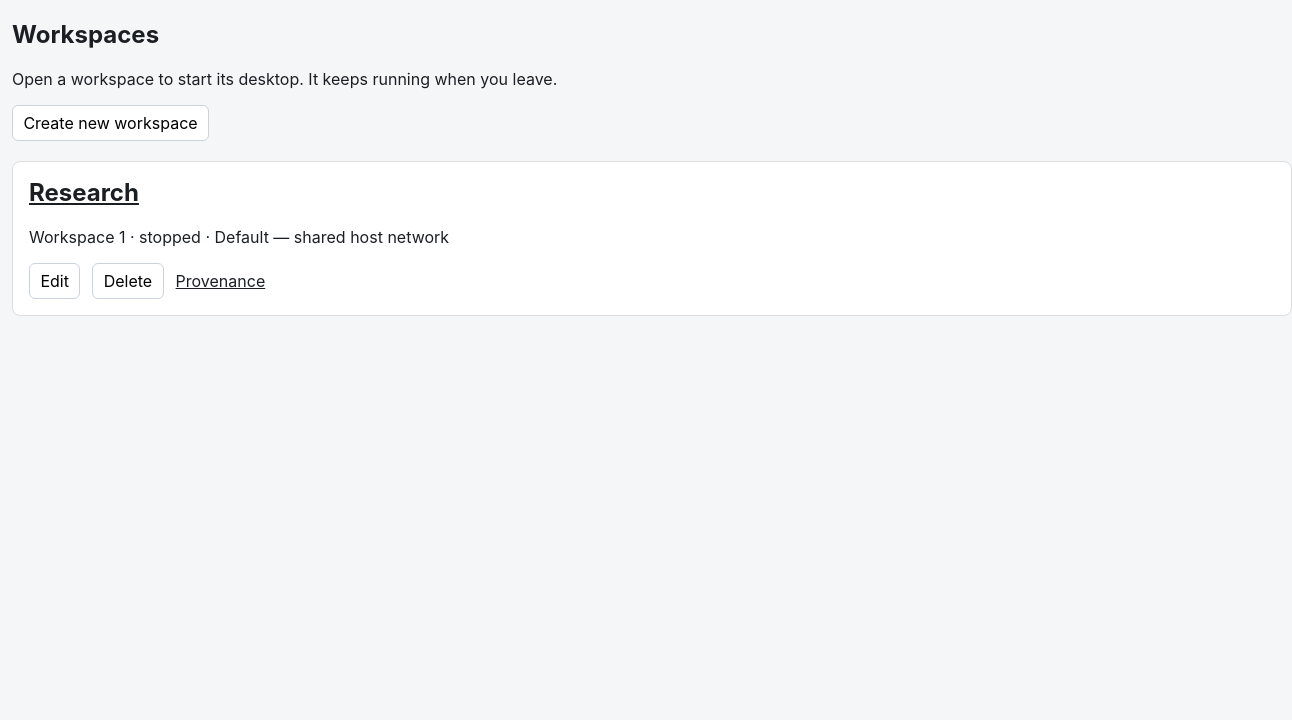
Test: requires explicit deletion confirmation and retains the row on failure
This screenshot has width=1292, height=720.
Click the button with aria-label "Delete Research". click: (128, 281)
box: [92,263,164,300]
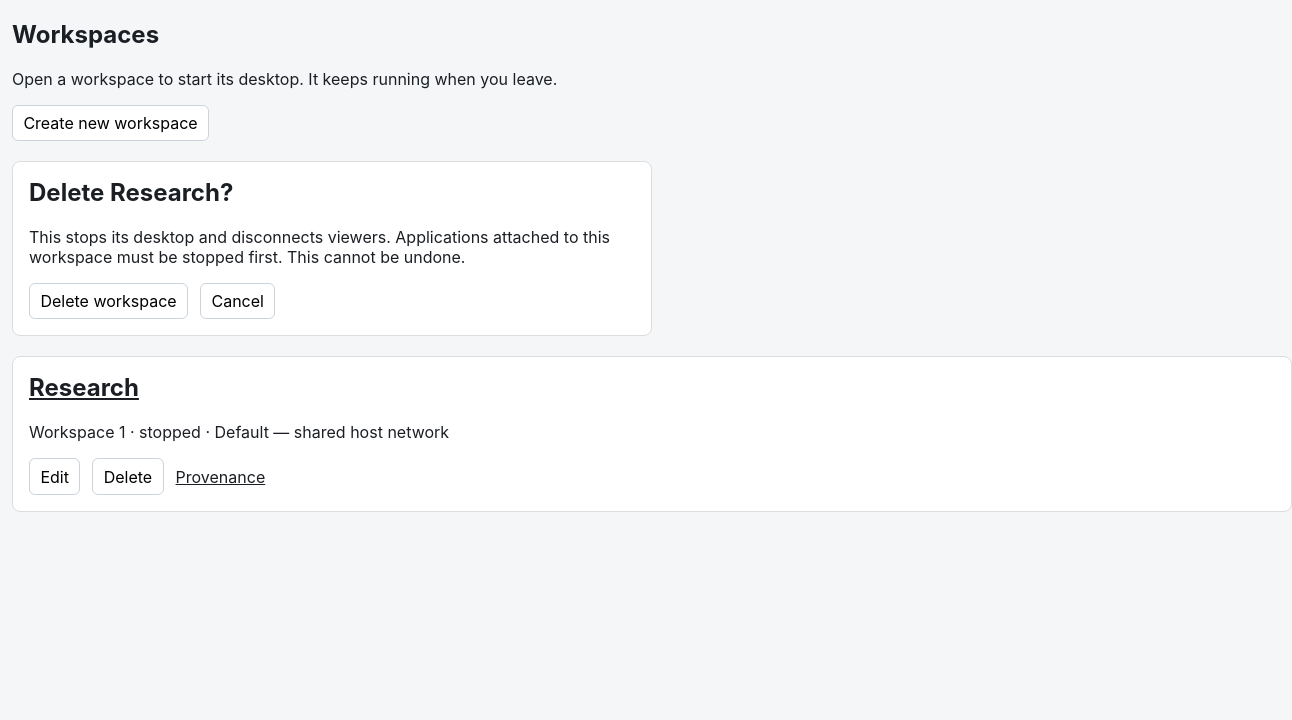
Now the element named "Confirm workspace deletion" shows "disconnects viewers", box [29,227,610,267]
Click the button "Delete workspace". click: (109, 301)
box: [29,283,188,320]
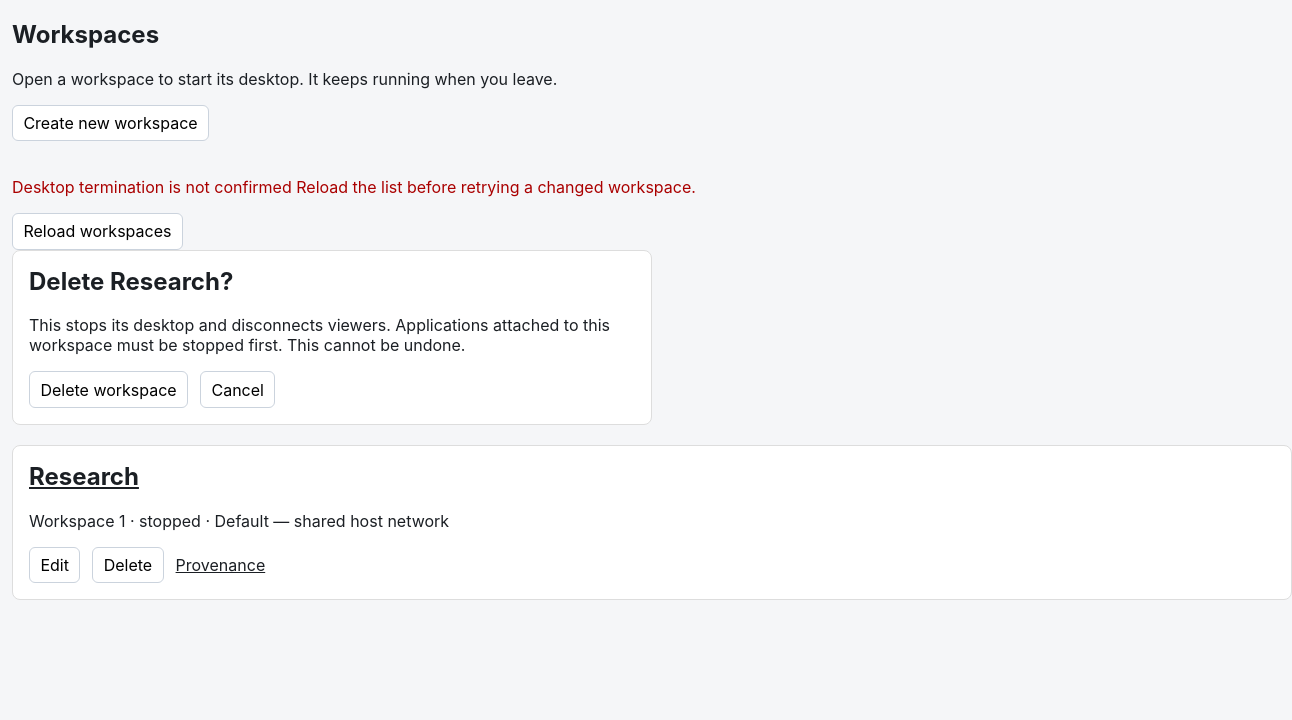
Expected: the link "Research" is shown, [29,462,139,491]
Now the message is shown, box [12,177,696,197]
